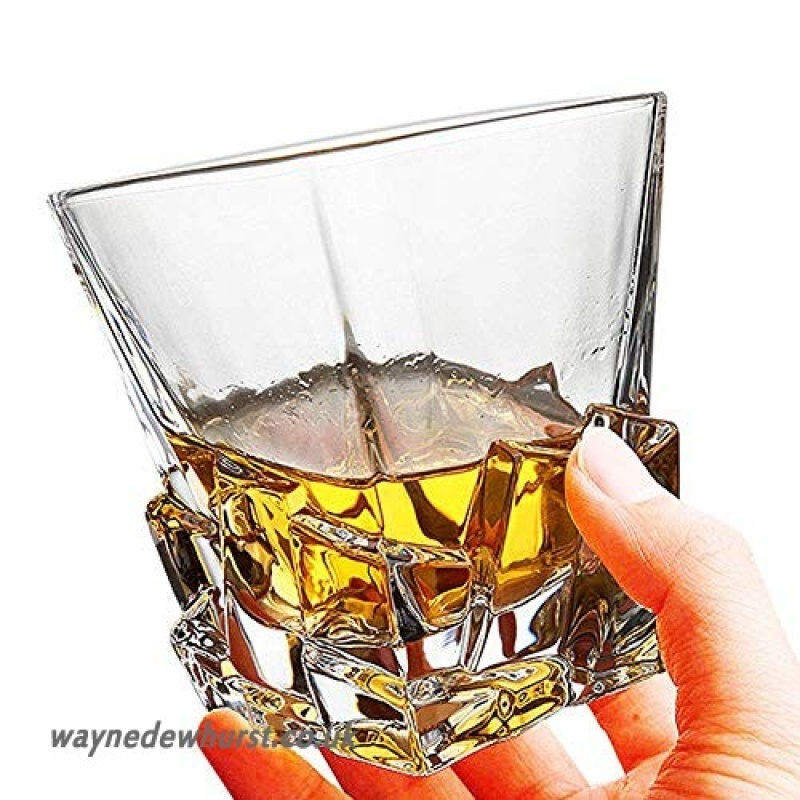whiskey: (60, 89, 695, 742)
